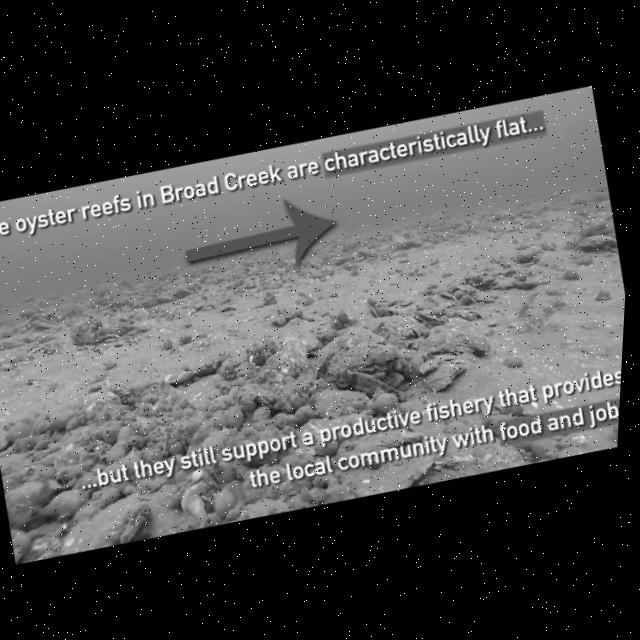Oyster-Closed: (481, 204, 520, 231)
Oyster-Indeterminate: (340, 439, 450, 500), (408, 302, 502, 363), (85, 494, 175, 551), (345, 360, 418, 410), (307, 379, 377, 430), (246, 346, 308, 396), (102, 359, 164, 408), (362, 305, 425, 353), (175, 367, 230, 413), (272, 323, 317, 378), (35, 480, 96, 519), (175, 475, 222, 522), (416, 357, 469, 396), (72, 383, 122, 420), (6, 474, 51, 511), (572, 229, 620, 262), (67, 316, 111, 351), (183, 351, 229, 381), (8, 524, 40, 564), (508, 241, 548, 270), (525, 431, 559, 465), (156, 363, 193, 394), (546, 438, 592, 462), (576, 212, 611, 241), (386, 231, 427, 255), (0, 461, 36, 488), (450, 302, 488, 327), (500, 349, 531, 378), (44, 471, 81, 494), (29, 313, 65, 336), (488, 273, 520, 298), (102, 306, 131, 330), (15, 301, 46, 323), (284, 251, 314, 273), (307, 262, 338, 283), (554, 429, 585, 449), (468, 285, 495, 307), (505, 263, 531, 285), (435, 285, 462, 306), (354, 240, 380, 261), (169, 284, 195, 304), (560, 265, 584, 285), (455, 278, 480, 297), (462, 270, 488, 288), (172, 307, 199, 324), (183, 294, 206, 313), (200, 296, 227, 312), (594, 287, 616, 305), (329, 253, 355, 267), (452, 287, 472, 304), (137, 294, 158, 309), (106, 322, 127, 336), (154, 292, 173, 307), (0, 433, 13, 454), (117, 275, 134, 290), (21, 294, 40, 307), (184, 303, 196, 318)
Oyster-Open: (307, 324, 389, 387), (120, 319, 152, 337), (104, 331, 121, 343)
